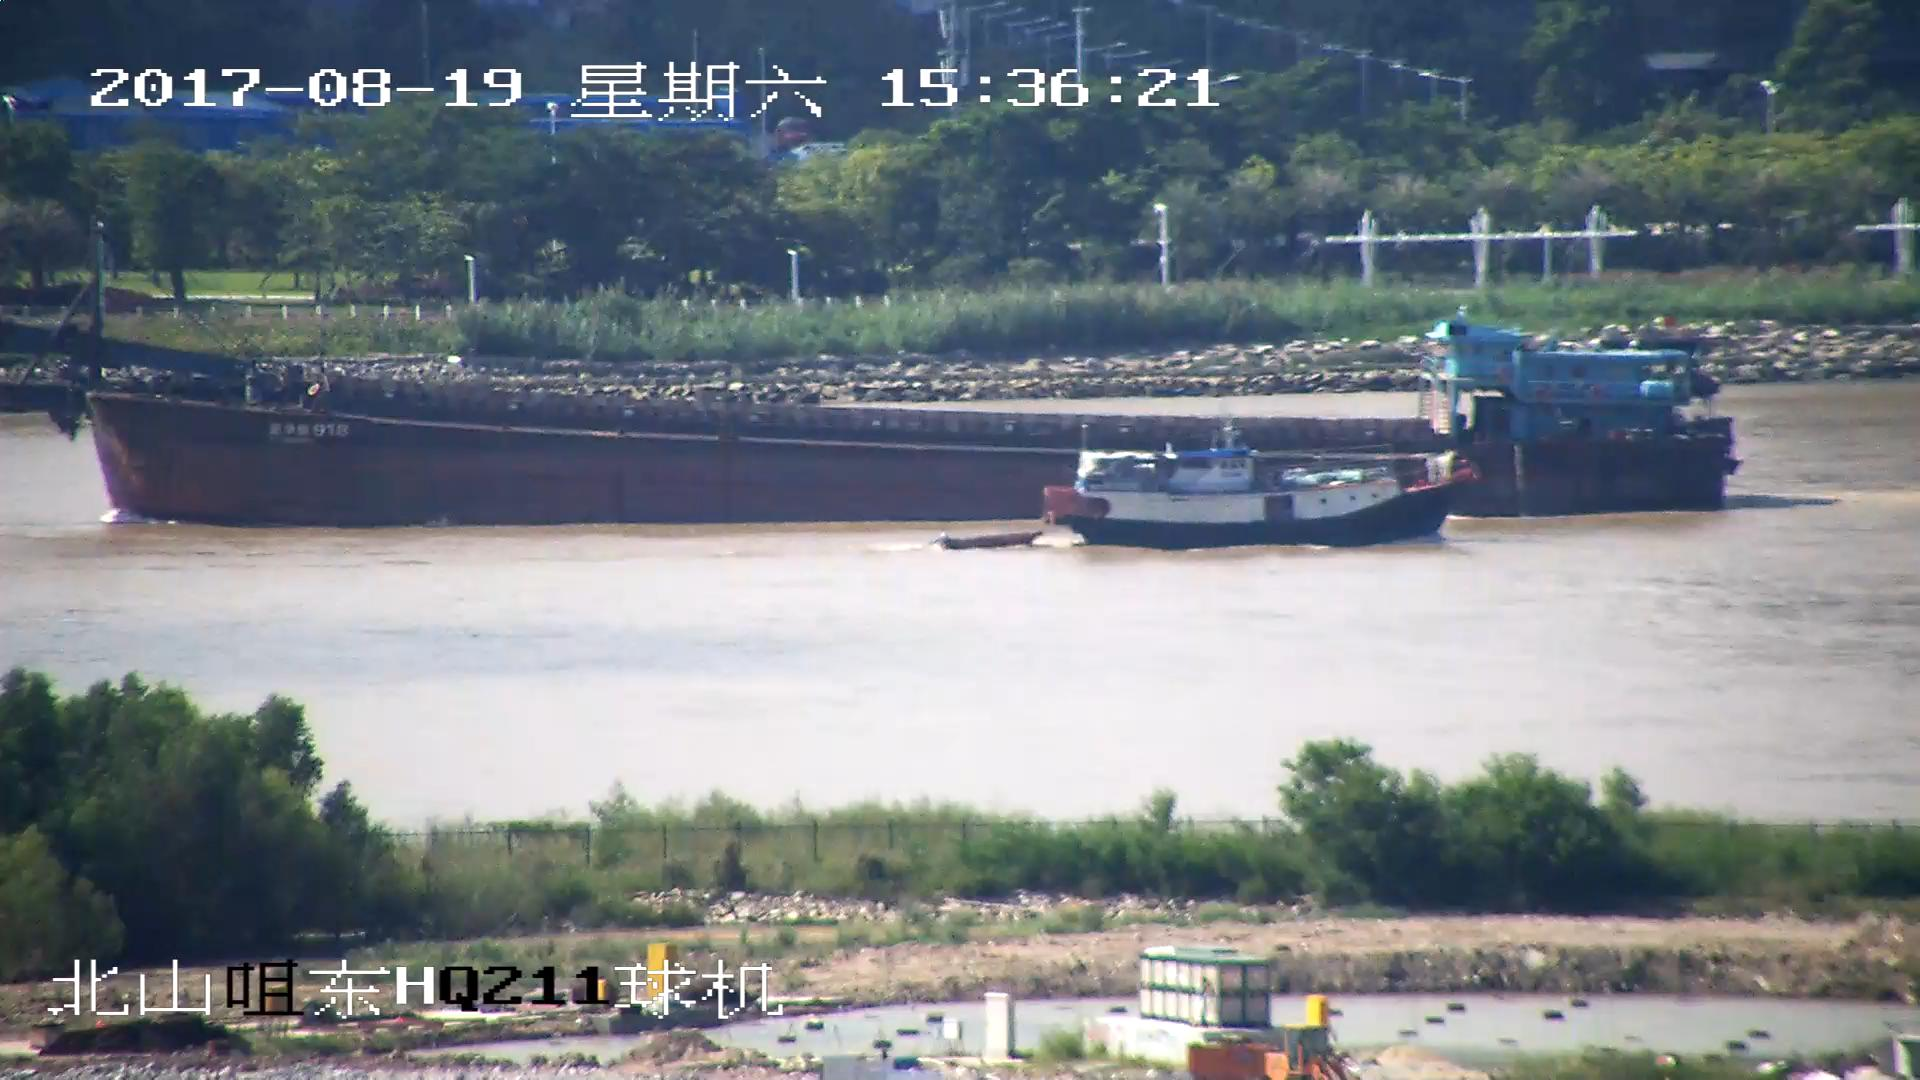bulk cargo carrier: (1, 311, 1739, 521)
fishing boat: (940, 450, 1474, 554)
